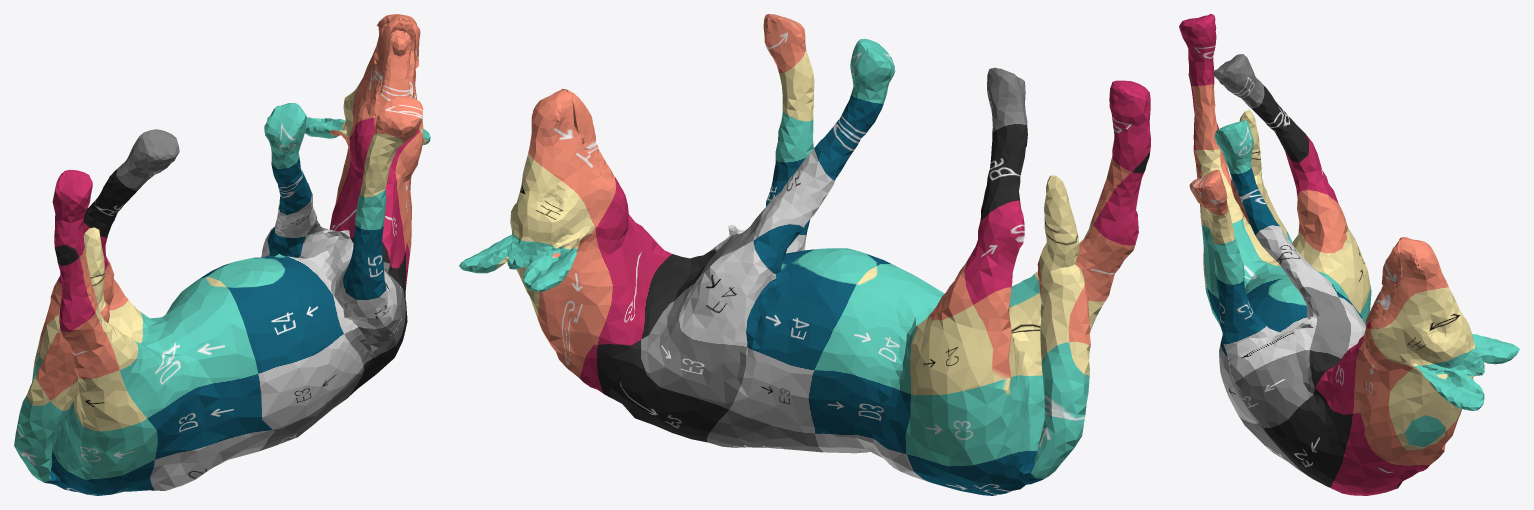
The model's file is horse_02-horse_05.obj.
3 views of the same model, side by side, from view 1: azimuth 30°, elevation 25°; view 2: azimuth 150°, elevation 25°; view 3: azimuth 270°, elevation 25° (orthographic). The views are drawn at different scales.
Parts seen in each view (by area): view 1: horse_02-horse_05_export; view 2: horse_02-horse_05_export; view 3: horse_02-horse_05_export.
Boxes of the visible parts, left/top/right/bottom form: horse_02-horse_05_export: left=14, top=14, right=430, bottom=495; horse_02-horse_05_export: left=459, top=14, right=1150, bottom=495; horse_02-horse_05_export: left=1179, top=14, right=1519, bottom=495.
Size of the model in its own units: 0.8319 by 0.5827 by 0.5187.
